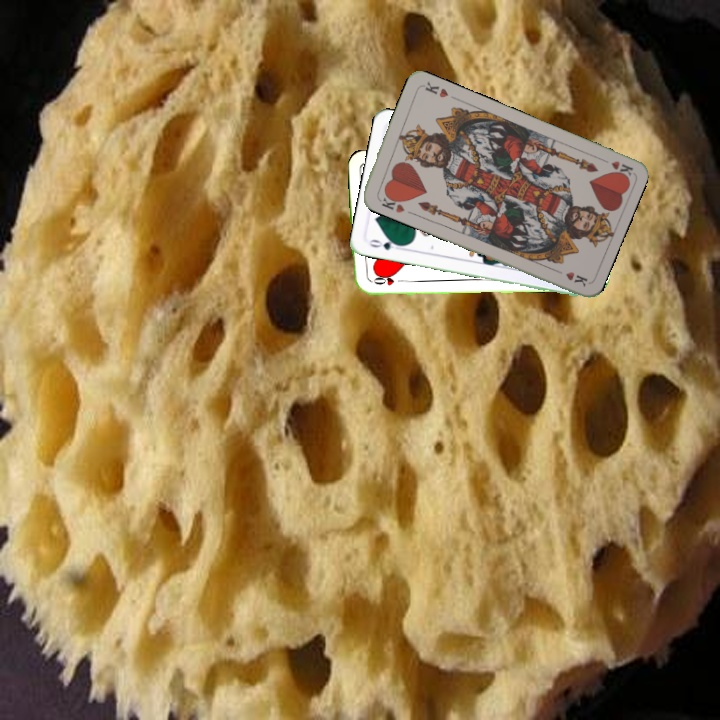GO: (365, 235, 405, 253)
HK: (595, 153, 635, 180), (374, 189, 407, 215)
HO: (366, 272, 407, 288)
